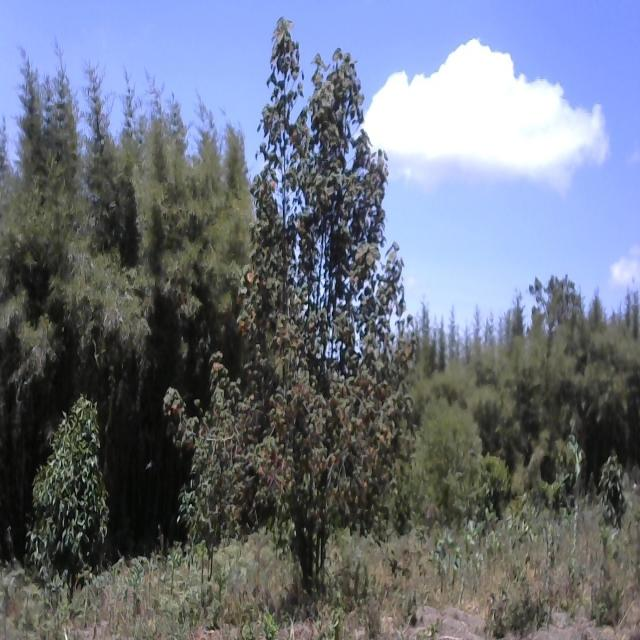Hass Avocado: (30, 392, 111, 600), (474, 447, 514, 527), (592, 451, 629, 531)
other: (164, 14, 418, 587), (0, 42, 75, 416), (82, 54, 140, 396)
